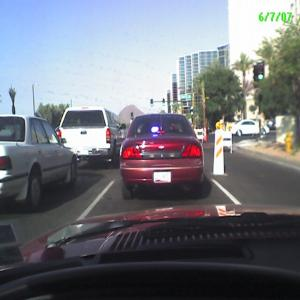Vehicle-registration-plate: (155, 172, 173, 185)
